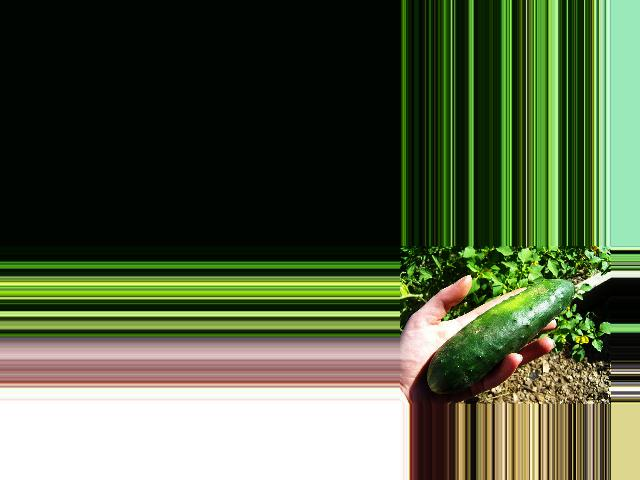cucumber: (428, 279, 575, 393)
